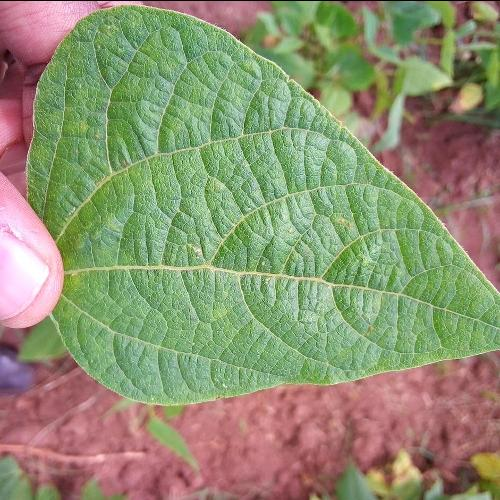sehat: (77, 180, 380, 358), (71, 45, 227, 154), (396, 278, 468, 342)
